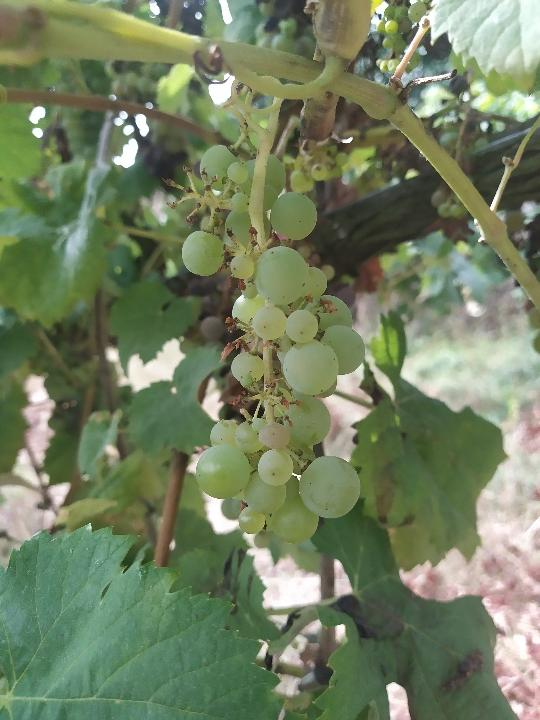grape: (179, 143, 369, 550)
